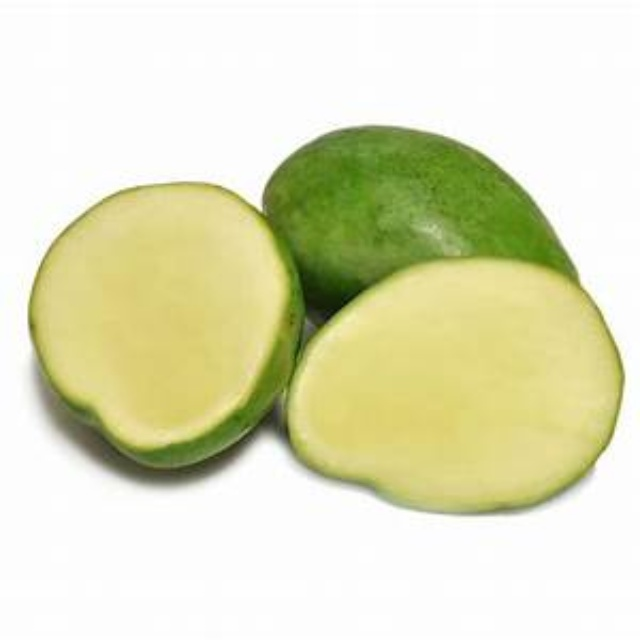mango: (290, 257, 622, 512), (34, 177, 297, 472), (260, 118, 583, 313)
